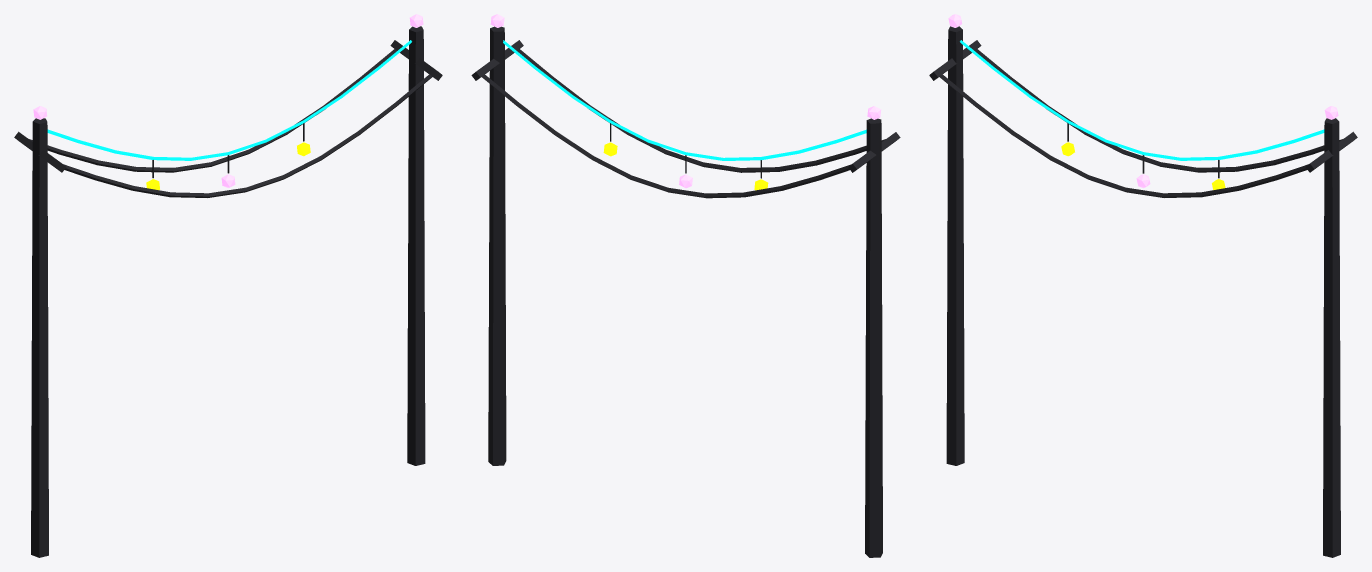
The model's file is Prop_CablePoles.fbx.
3 views of the same model, side by side, from view 1: azimuth 30°, elevation 25°; view 2: azimuth 150°, elevation 25°; view 3: azimuth 330°, elevation 25° (orthographic).
Visible parts, largest first — view 1: CP_Pole-1, CP_Pole1, CP_Cable0, CP_Cable1, CP_Cable2; view 2: CP_Pole-1, CP_Pole1, CP_Cable1, CP_Cable0, CP_Cable2; view 3: CP_Pole1, CP_Pole-1, CP_Cable0, CP_Cable1, CP_Cable2.
Part boxes in pixels (x1,y1,x2,y2): CP_Pole-1: [31, 118, 48, 557]; CP_Pole1: [407, 26, 425, 465]; CP_Cable0: [63, 74, 432, 197]; CP_Cable1: [29, 49, 396, 172]; CP_Cable2: [47, 40, 411, 160]; CP_Pole-1: [865, 118, 882, 557]; CP_Pole1: [488, 26, 506, 465]; CP_Cable1: [482, 74, 850, 198]; CP_Cable0: [517, 49, 885, 172]; CP_Cable2: [503, 40, 866, 160]; CP_Pole1: [1323, 118, 1340, 557]; CP_Pole-1: [946, 26, 964, 465]; CP_Cable0: [939, 74, 1308, 197]; CP_Cable1: [975, 49, 1342, 172]; CP_Cable2: [960, 40, 1324, 160].
Size of the model in its own units: 1.04 by 1.14 by 0.2.
